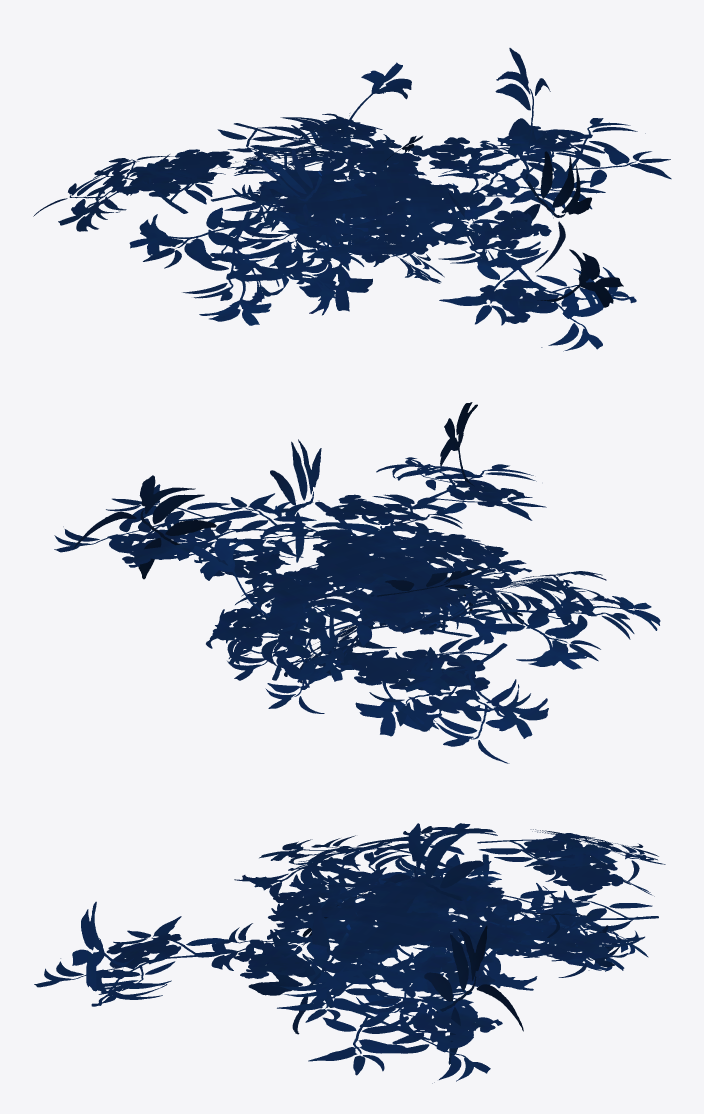
3 views of the same model, one above another, from view 1: azimuth 30°, elevation 25°; view 2: azimuth 150°, elevation 25°; view 3: azimuth 270°, elevation 25° (orthographic). The views are drawn at different scales.
Visible parts, largest first — view 1: SM_FH_Leaf_Piles_05_LOD0; view 2: SM_FH_Leaf_Piles_05_LOD0; view 3: SM_FH_Leaf_Piles_05_LOD0.
Part boxes in pixels (x1,y1,x2,y2): SM_FH_Leaf_Piles_05_LOD0: [33, 48, 671, 351]; SM_FH_Leaf_Piles_05_LOD0: [54, 402, 660, 763]; SM_FH_Leaf_Piles_05_LOD0: [34, 823, 665, 1083].
Bounding box in the file's own units: 0.8244 × 0.2712 × 0.8195.
1 material, 1 textured.
